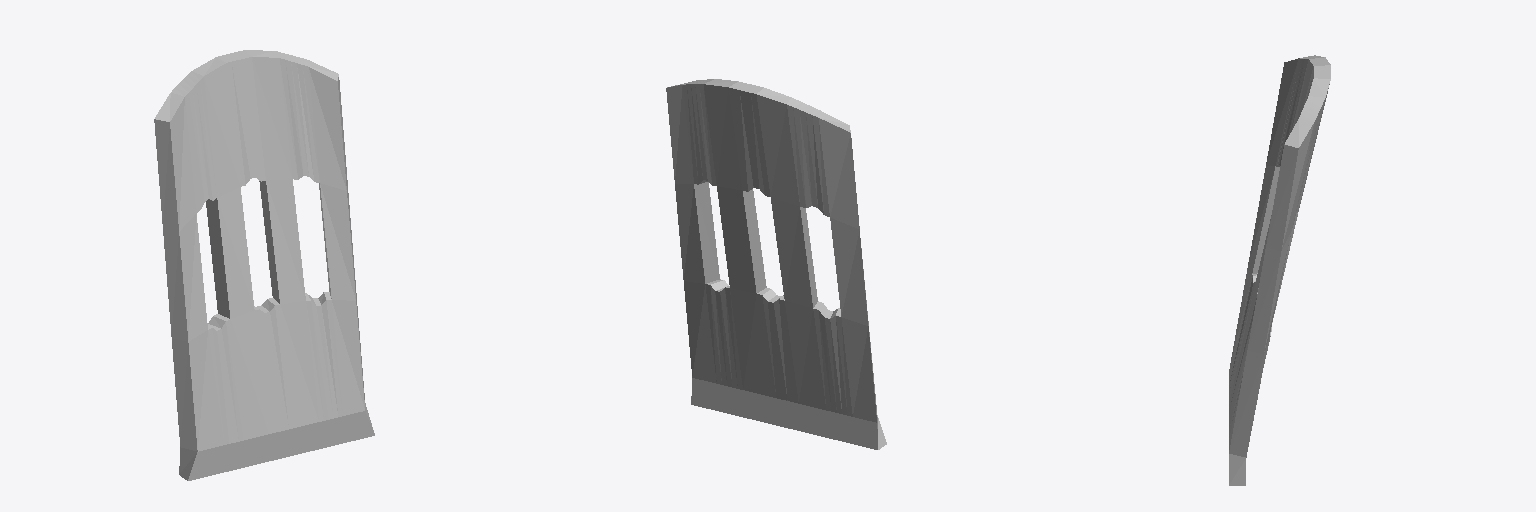
File: chair_Back_5.obj
3 renders of one model, left to right at view 1: azimuth 30°, elevation 25°; view 2: azimuth 150°, elevation 25°; view 3: azimuth 270°, elevation 25°, orthographic.
Size of the model in its own units: 7.18 by 13.48 by 3.39.